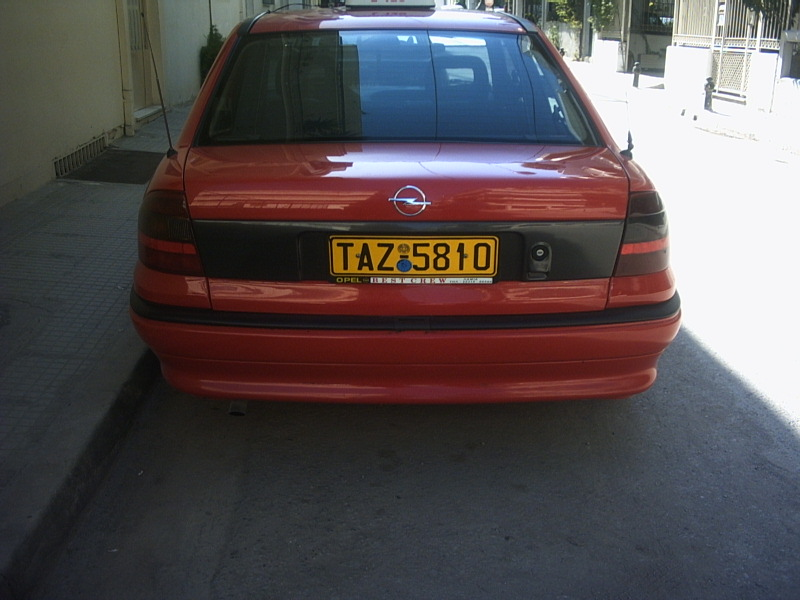licenseplate: (328, 236, 498, 277)
